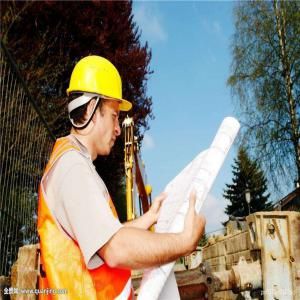yellow: (66, 52, 130, 162)
